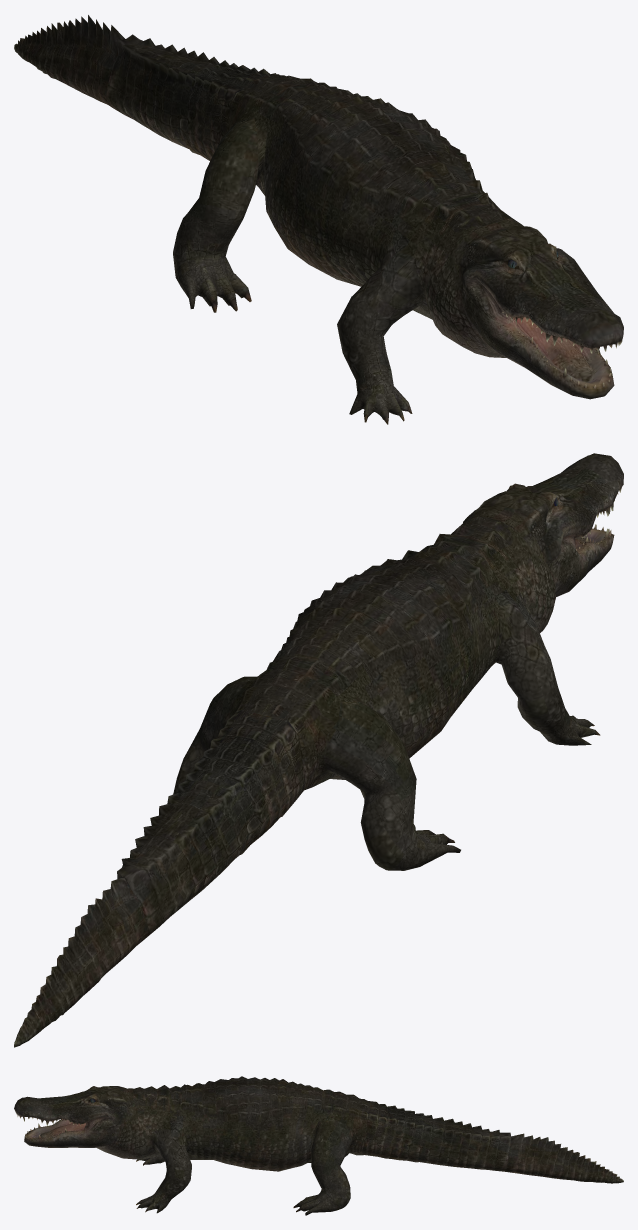
File: gator_b.glb
3 renders of one model, top to bottom at view 1: azimuth 30°, elevation 25°; view 2: azimuth 150°, elevation 25°; view 3: azimuth 270°, elevation 25°, orthographic. The views are drawn at different scales.
Parts seen in each view (by area): view 1: dock; view 2: dock; view 3: dock.
Boxes of the visible parts, x1=… form: dock: x1=14, y1=15, x2=623, y2=424; dock: x1=14, y1=453, x2=623, y2=1047; dock: x1=14, y1=1076, x2=623, y2=1215.
Bounding box in the file's own units: 0.8689 × 0.6172 × 3.31.
Materials: 2 (2 with a texture image).
